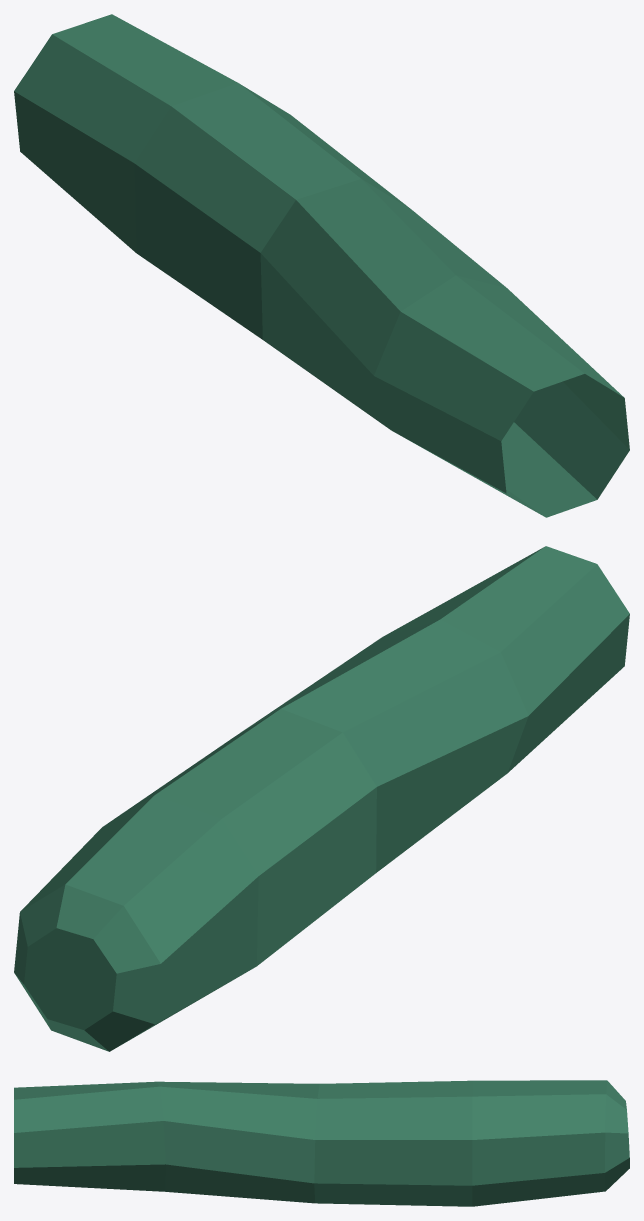
Rendered from Cactus_4.fbx.
The picture shows the model from 3 angles, top to bottom: view 1: azimuth 30°, elevation 25°; view 2: azimuth 150°, elevation 25°; view 3: azimuth 270°, elevation 25°; orthographic projection. The views are drawn at different scales.
Visible parts, largest first — view 1: Cactus_4.001; view 2: Cactus_4.001; view 3: Cactus_4.001.
Boxes of the visible parts, x1,y1,x2,y2 form: Cactus_4.001: (14, 14, 629, 517); Cactus_4.001: (14, 546, 629, 1051); Cactus_4.001: (14, 1080, 629, 1206).
Bounding box in the file's own units: 0.7696 × 0.7297 × 3.72.
